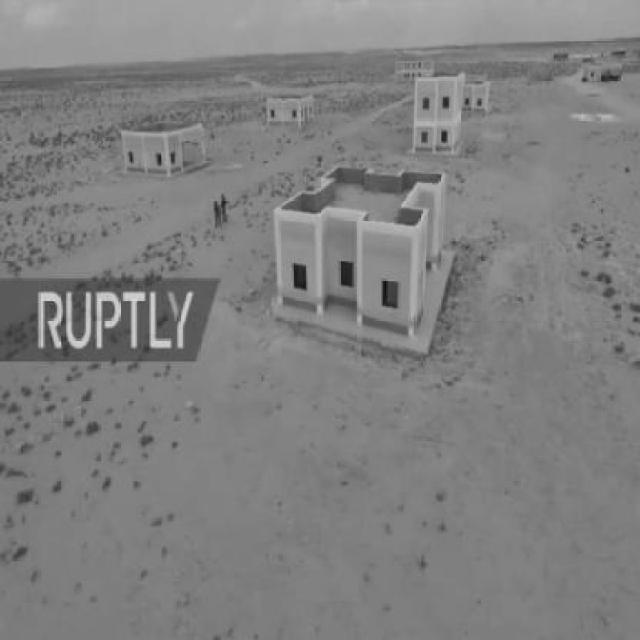Person: (219, 193, 232, 224), (213, 198, 220, 233)
